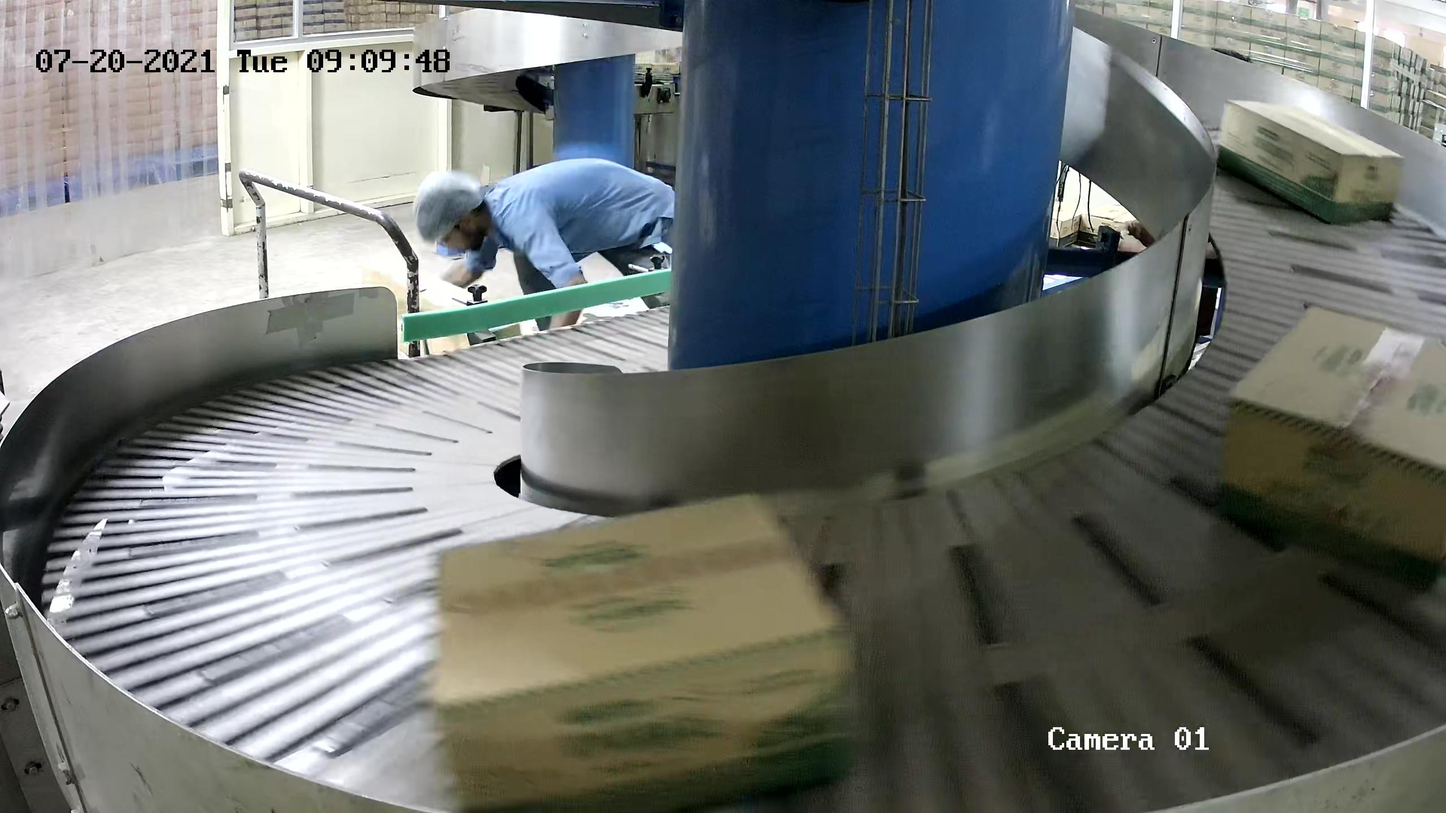Box: (426, 486, 861, 813), (1211, 299, 1446, 598), (1216, 93, 1405, 227)
